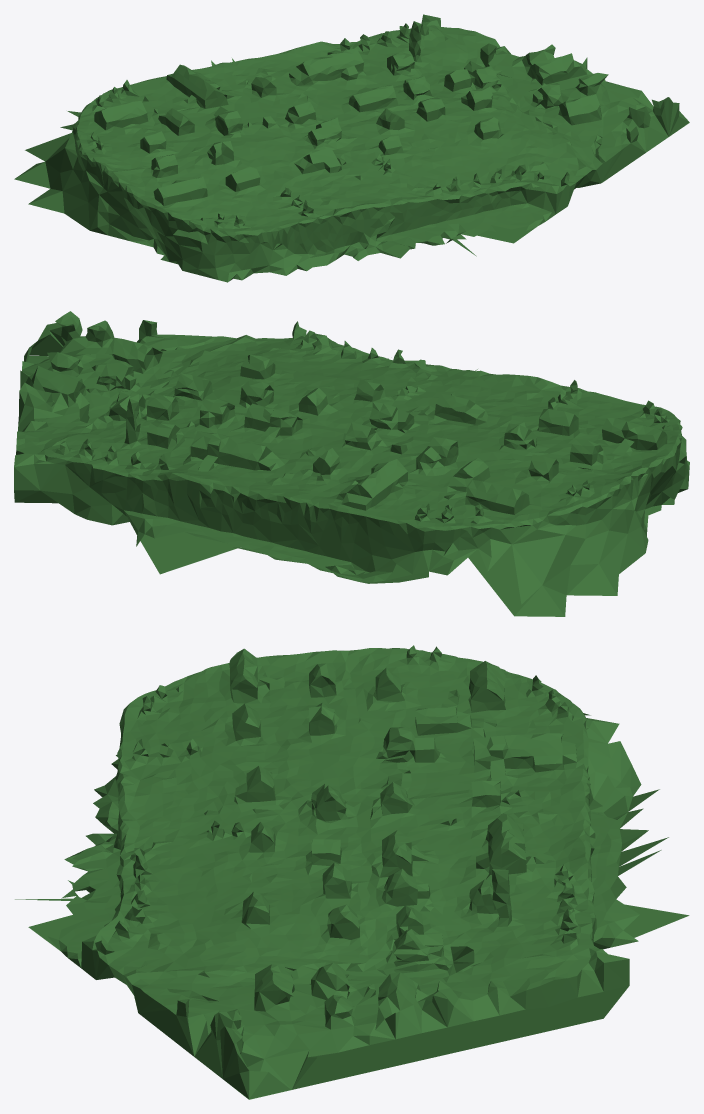
The model's file is Est.fbx.
The picture shows the model from 3 angles, top to bottom: view 1: azimuth 30°, elevation 25°; view 2: azimuth 150°, elevation 25°; view 3: azimuth 270°, elevation 25°; orthographic projection. The views are drawn at different scales.
Visible parts, largest first — view 1: Est; view 2: Est; view 3: Est.
Boxes of the visible parts, x1,y1,x2,y2 form: Est: [14, 14, 689, 282]; Est: [14, 311, 689, 616]; Est: [15, 645, 689, 1099].
Size of the model in its own units: 482 by 61.54 by 352.
